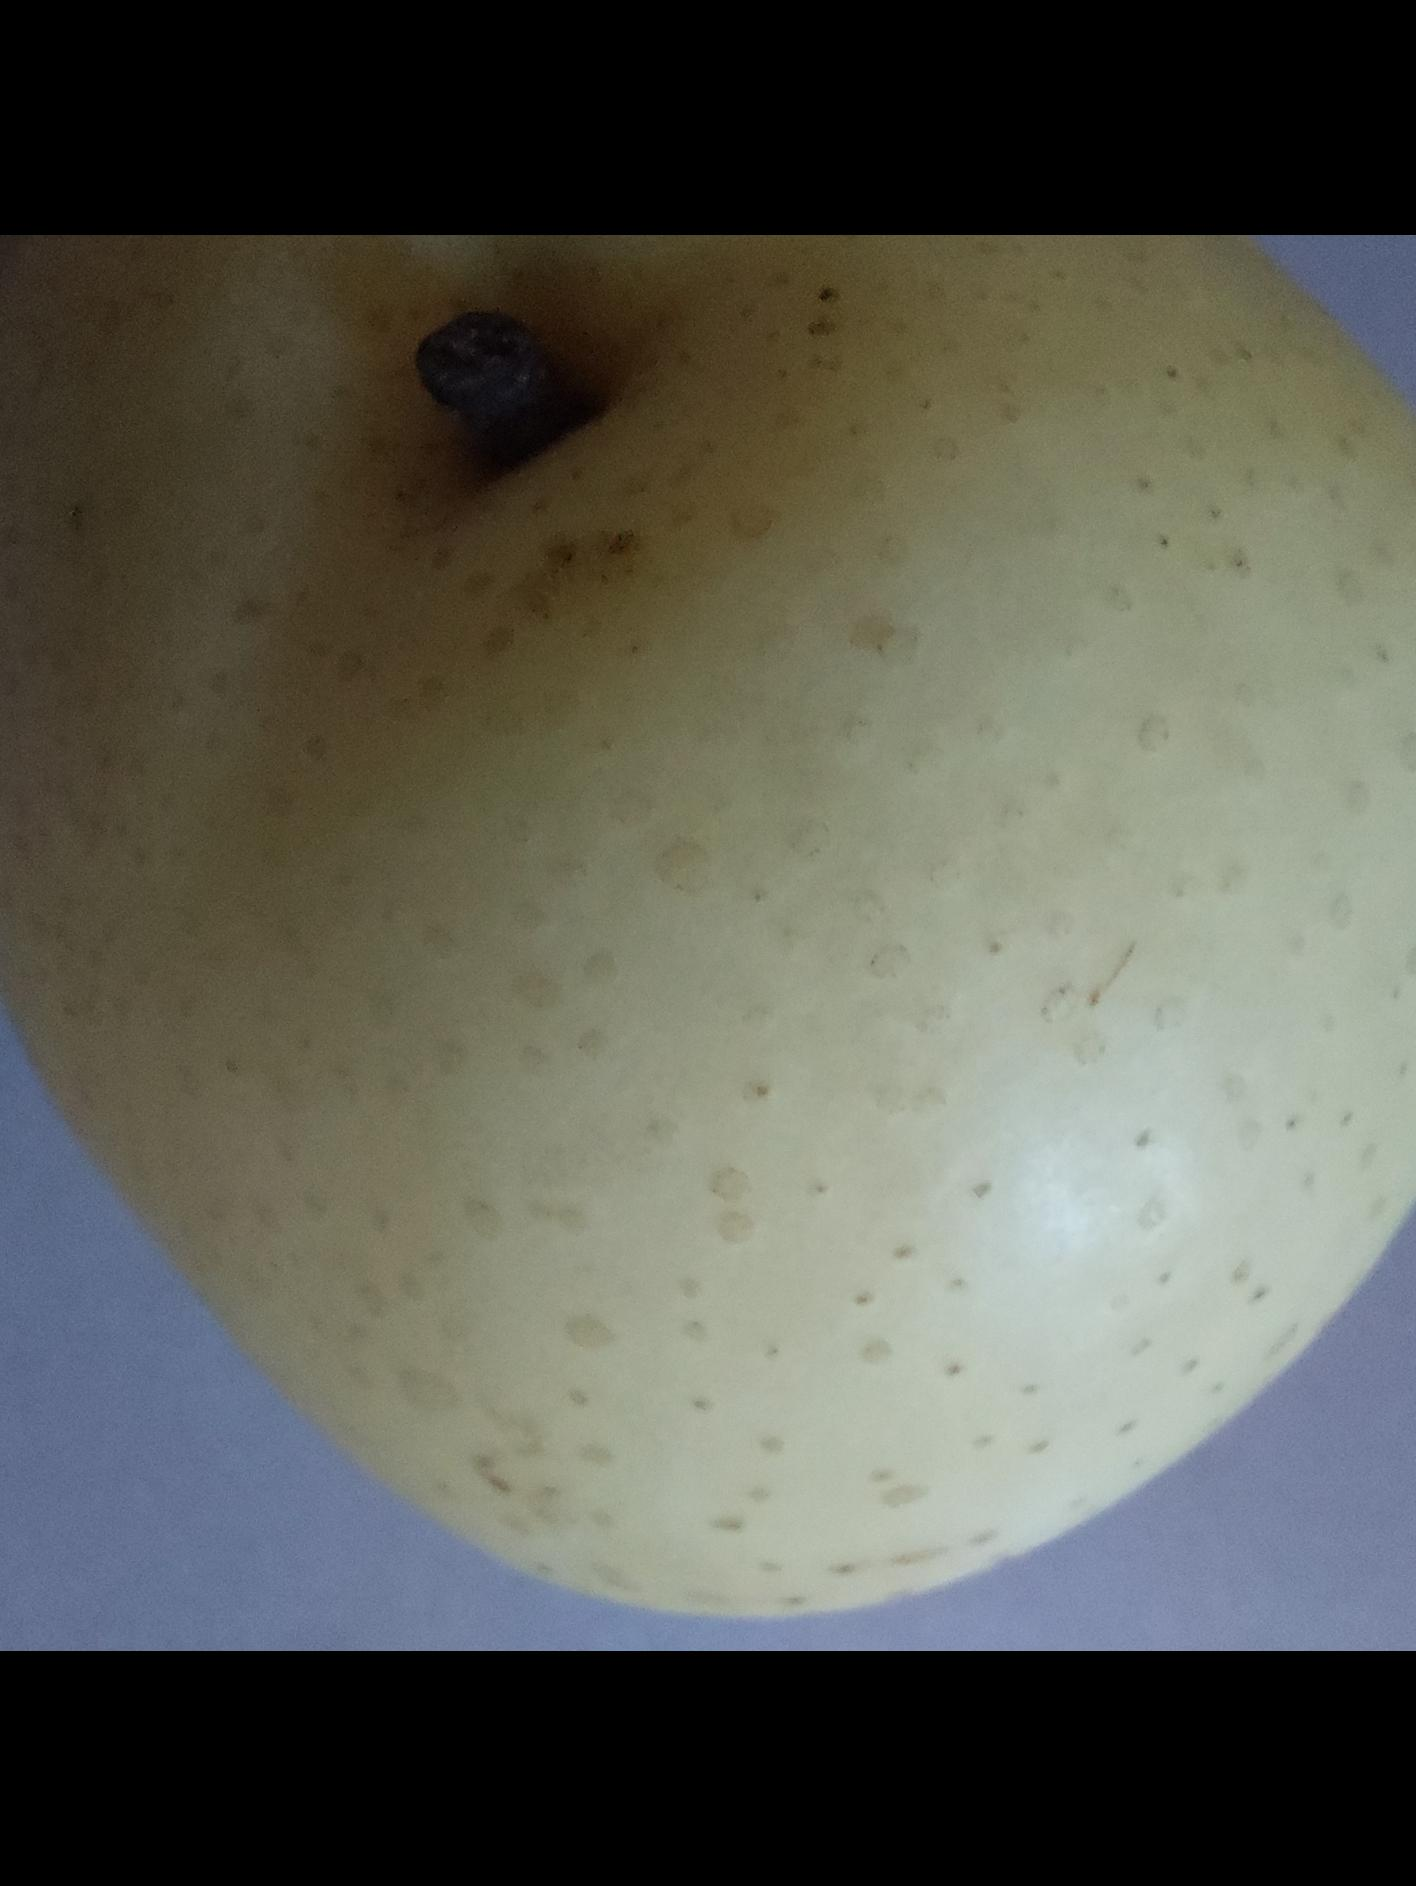Good Pear: (0, 235, 1416, 1629)
